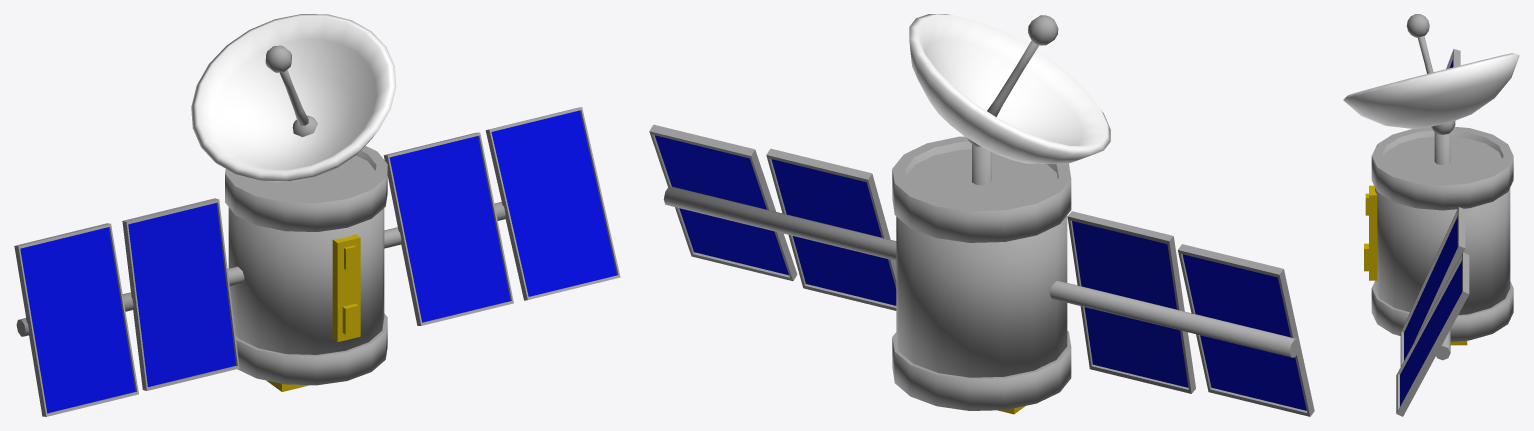
The model's file is Satellite_One.fbx.
3 views of the same model, side by side, from view 1: azimuth 30°, elevation 25°; view 2: azimuth 150°, elevation 25°; view 3: azimuth 270°, elevation 25° (orthographic). The views are drawn at different scales.
Visible parts, largest first — view 1: Cylinder.001, Cube.005; view 2: Cylinder.001; view 3: Cylinder.001, Cube.005.
Part boxes in pixels (x1,y1,x2,y2): Cylinder.001: [14, 14, 620, 416]; Cube.005: [332, 234, 360, 341]; Cylinder.001: [649, 14, 1314, 416]; Cylinder.001: [1343, 14, 1519, 416]; Cube.005: [1369, 185, 1377, 280].
Size of the model in its own units: 473 by 272 by 147.
